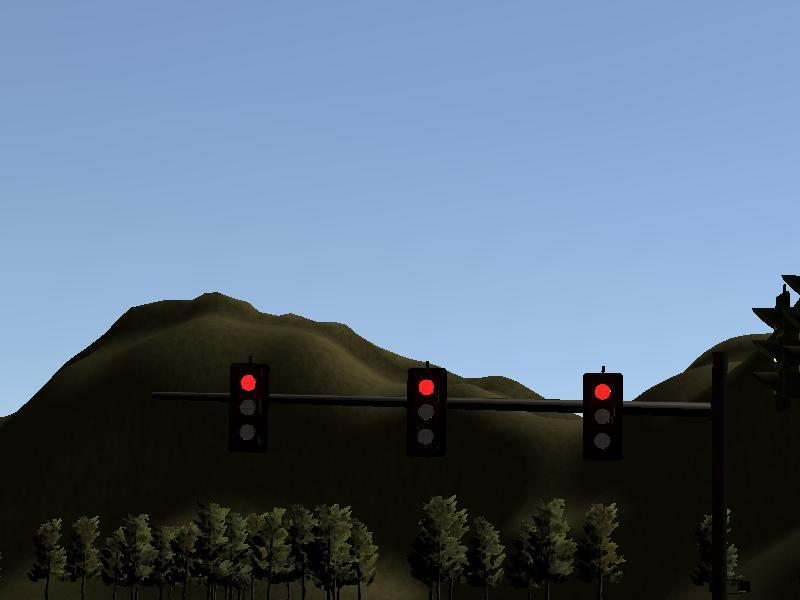Red: (229, 363, 269, 451), (582, 373, 622, 461), (406, 367, 446, 455)
